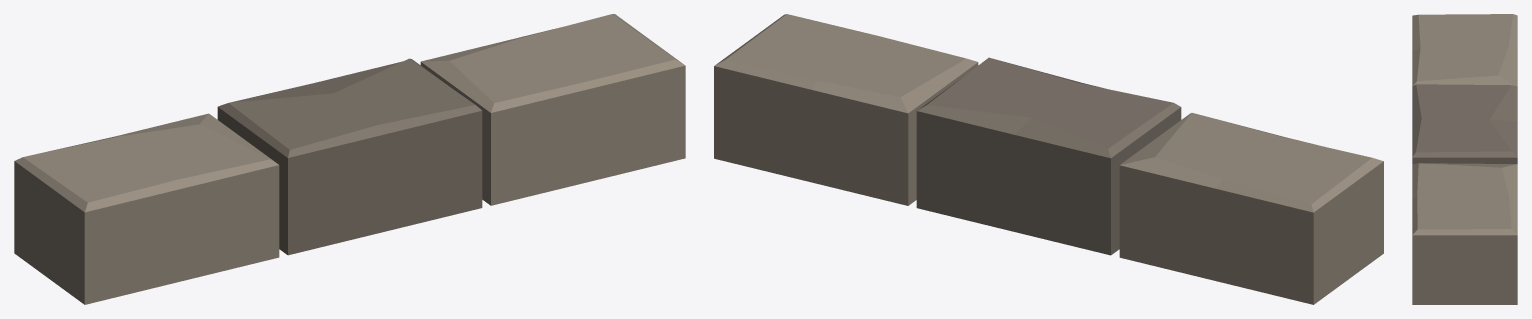
Rendered from mdvl_nature_kerb_01.glb.
The picture shows the model from 3 angles, left to right: view 1: azimuth 30°, elevation 25°; view 2: azimuth 150°, elevation 25°; view 3: azimuth 270°, elevation 25°; orthographic projection. The views are drawn at different scales.
Parts seen in each view (by area): view 1: mdvl_nature_kerb_01; view 2: mdvl_nature_kerb_01; view 3: mdvl_nature_kerb_01.
Part boxes in pixels (x1,y1,x2,y2): mdvl_nature_kerb_01: (14,14,685,304); mdvl_nature_kerb_01: (714,14,1383,304); mdvl_nature_kerb_01: (1412,14,1517,304).
Bounding box in the file's own units: 0.986 × 0.1605 × 0.2.
1 material, 1 textured.
